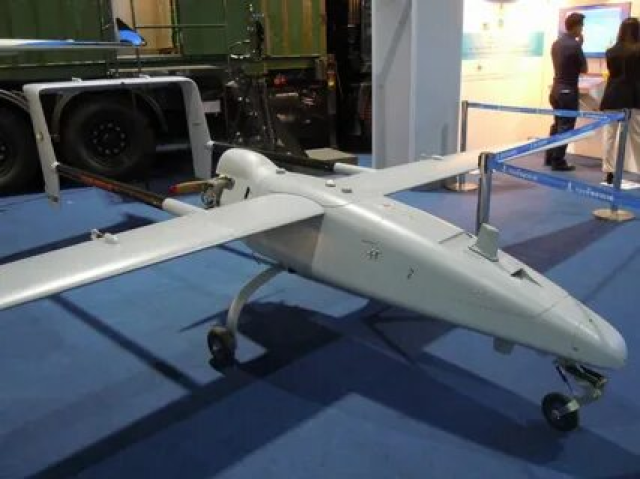military drone: (0, 75, 628, 433)
